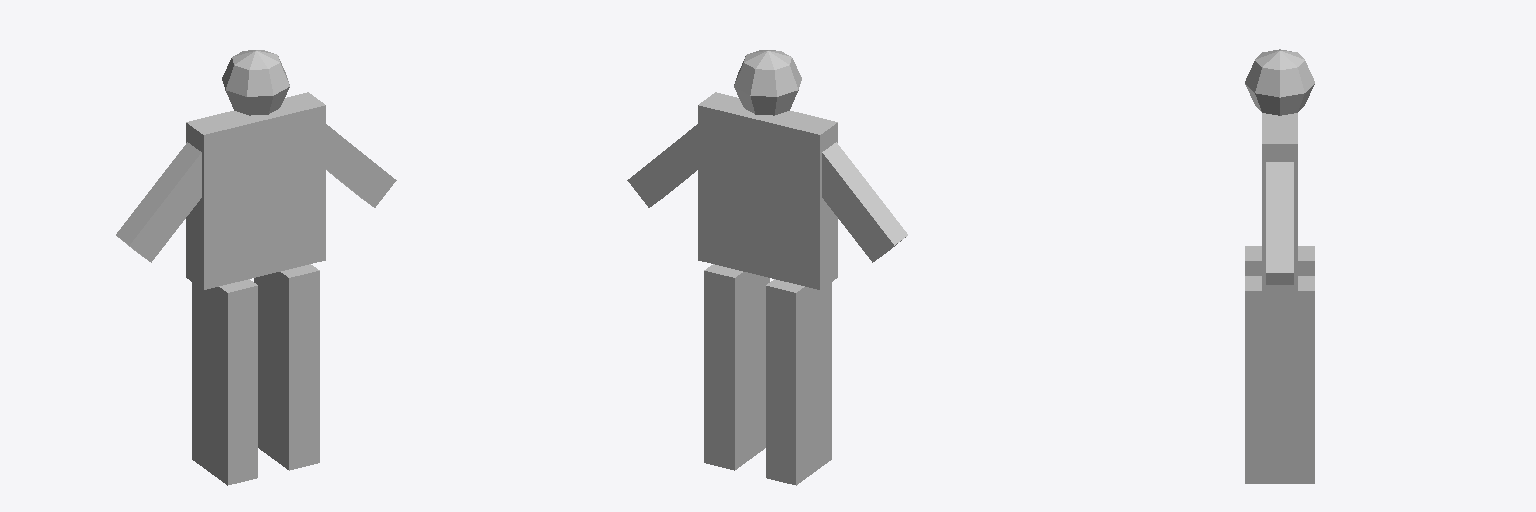
File: Man001.obj
The picture shows the model from 3 angles: view 1: azimuth 30°, elevation 25°; view 2: azimuth 150°, elevation 25°; view 3: azimuth 270°, elevation 25°; orthographic projection.
Visible parts, largest first — view 1: Man001; view 2: Man001; view 3: Man001.
Boxes of the visible parts, box(x1,y1,x2,y2) form: Man001: box(116, 50, 396, 485); Man001: box(627, 50, 907, 485); Man001: box(1245, 49, 1314, 483).
Bounding box in the file's own units: 52.24 × 76.8 × 12.